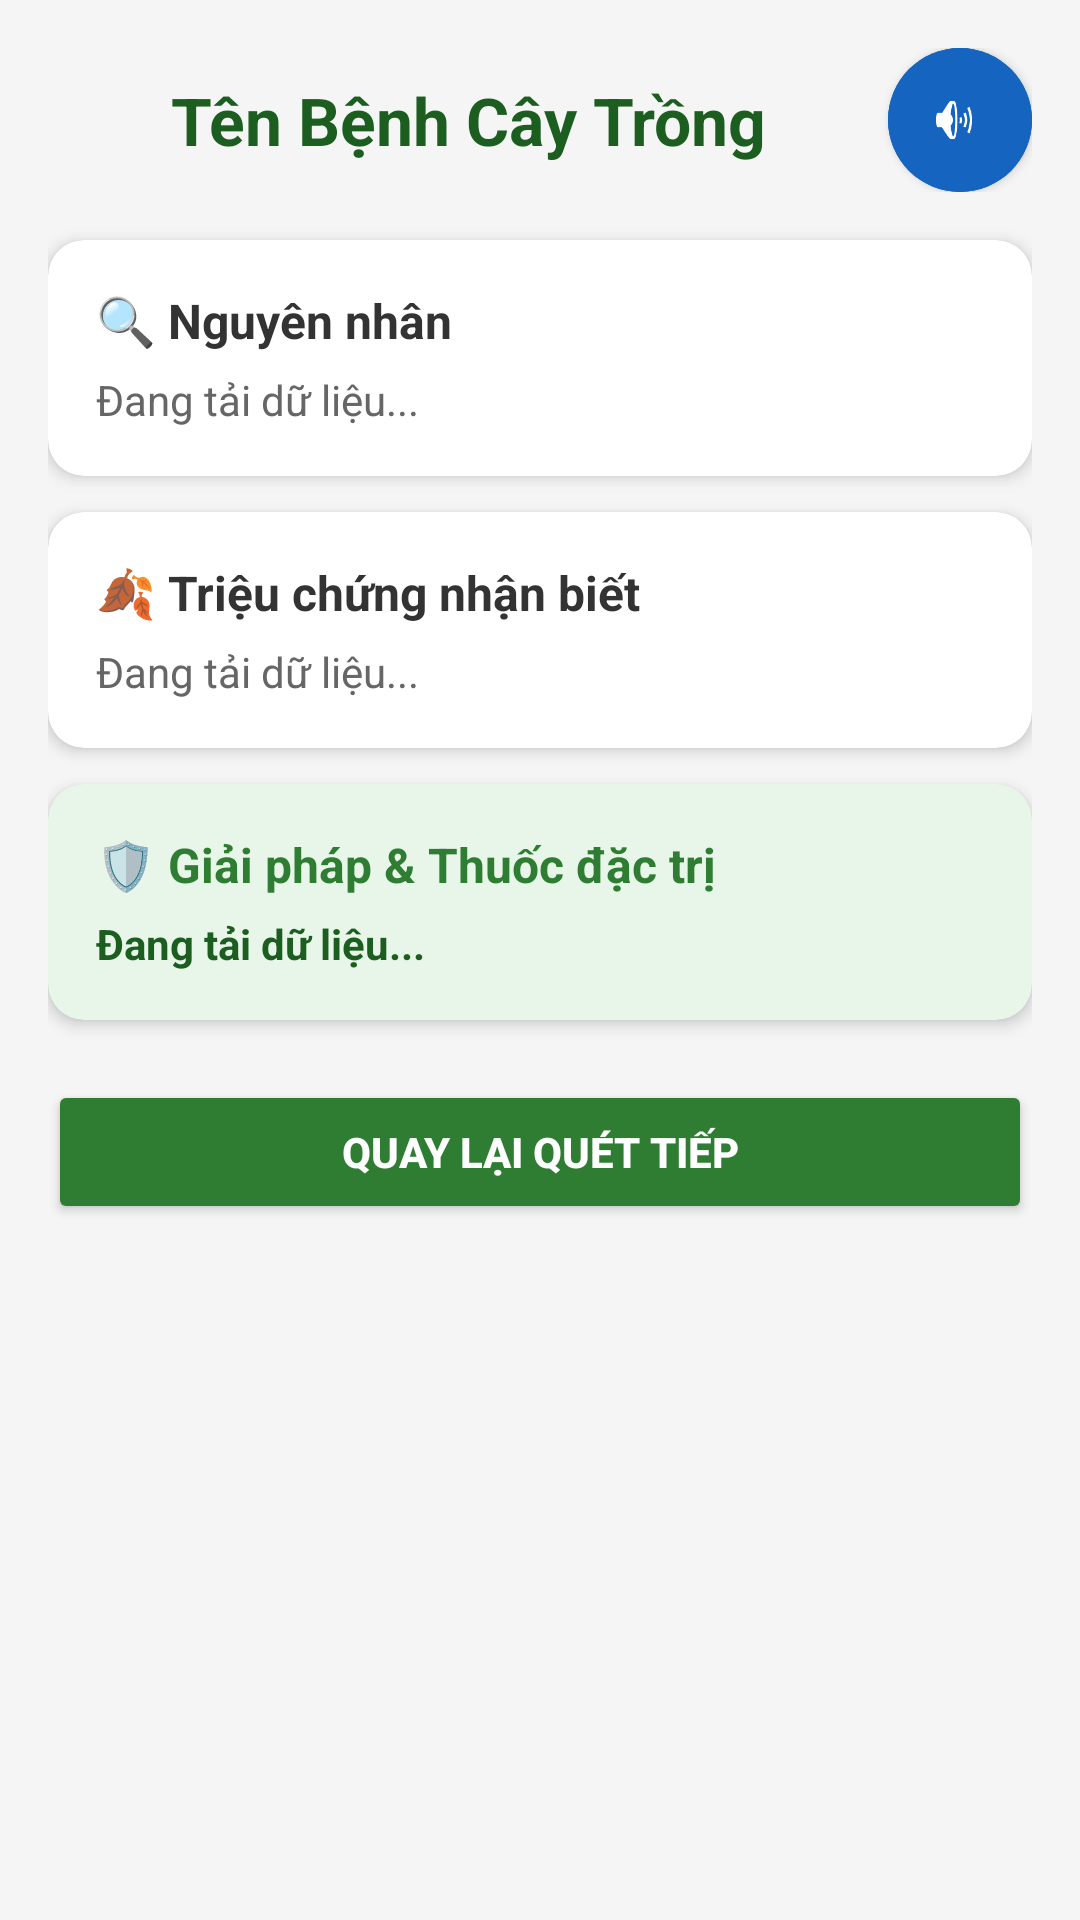

Screen size 1080x1920. Icon name, then its box in pixels as (x1, y1, x2, y2):
lock silent mode off: (888, 48, 1032, 192)
